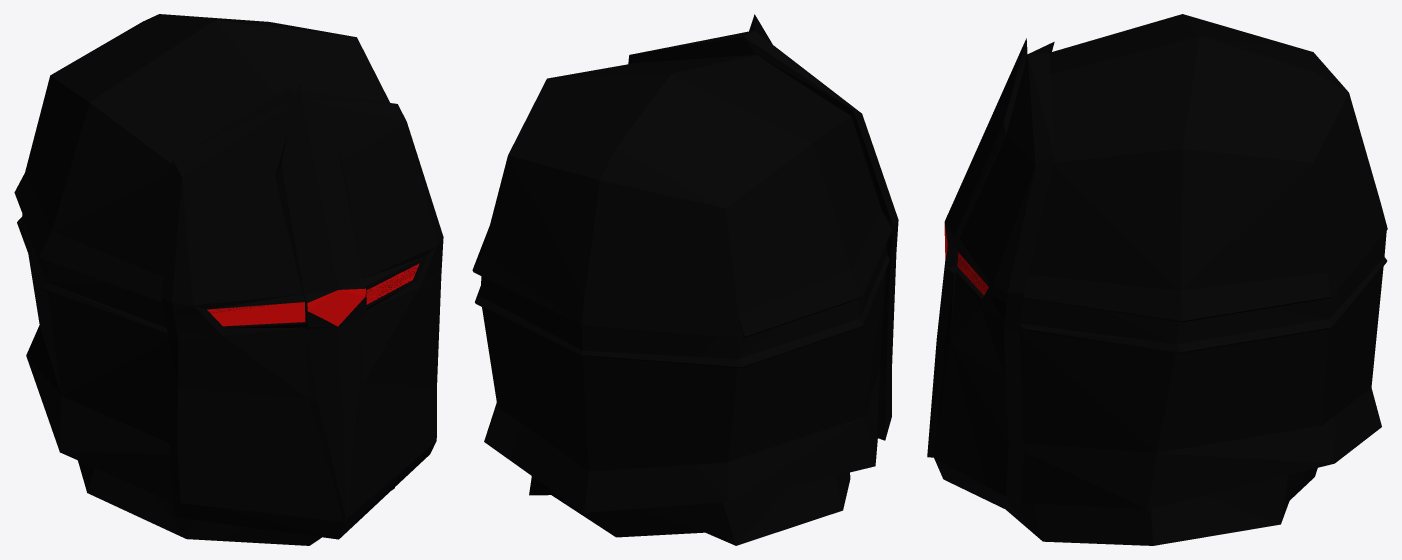
File: evil knight head.fbx
The picture shows the model from 3 angles, left to right: view 1: azimuth 30°, elevation 25°; view 2: azimuth 150°, elevation 25°; view 3: azimuth 270°, elevation 25°; orthographic projection. The views are drawn at different scales.
Parts seen in each view (by area): view 1: polySurface18, polySurface14, polySurface13, polySurface12; view 2: polySurface18; view 3: polySurface18.
Part boxes in pixels (x1=…): polySurface18: x1=14, y1=14, x2=443, y2=545; polySurface14: x1=207, y1=302, x2=305, y2=326; polySurface13: x1=307, y1=288, x2=366, y2=326; polySurface12: x1=366, y1=263, x2=419, y2=304; polySurface18: x1=472, y1=14, x2=898, y2=545; polySurface18: x1=927, y1=14, x2=1387, y2=545.
Bounding box in the file's own units: 64.8 × 67.87 × 76.74.
